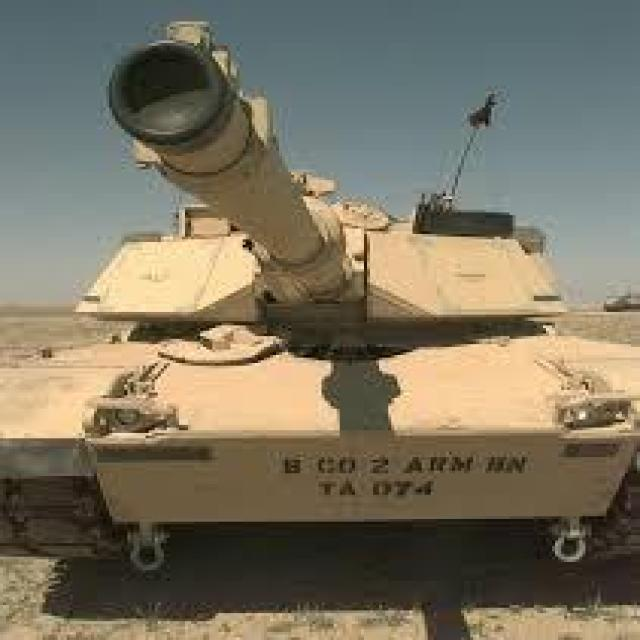Tanks: (20, 41, 626, 576)
